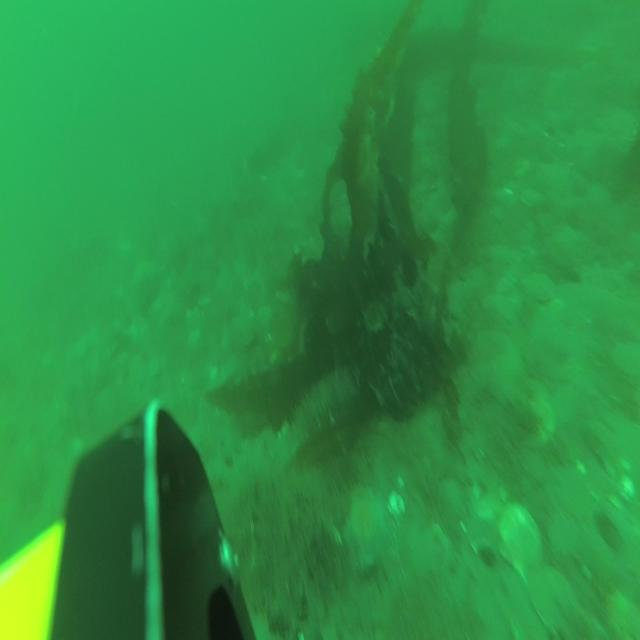scallop: (496, 506, 542, 575), (533, 566, 573, 630), (523, 268, 556, 302)
starfish: (345, 486, 392, 561)
